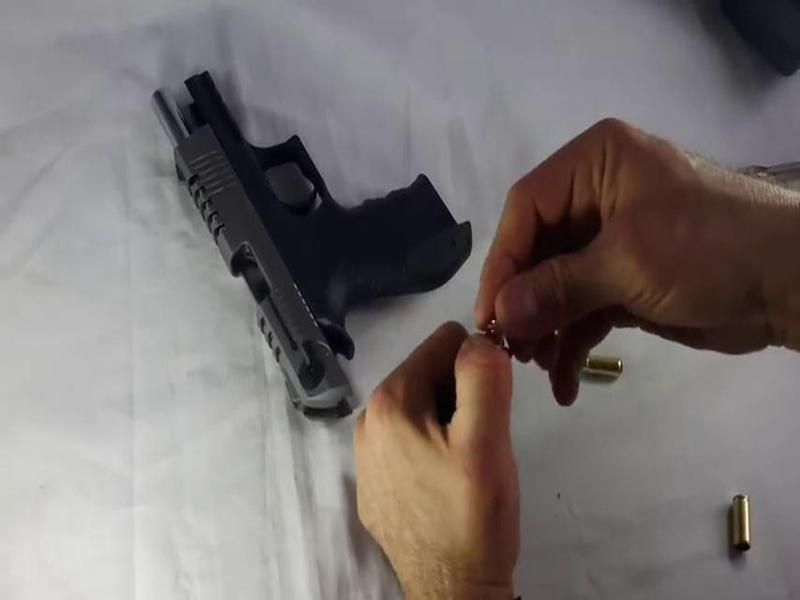Pistola: (143, 53, 478, 409)
